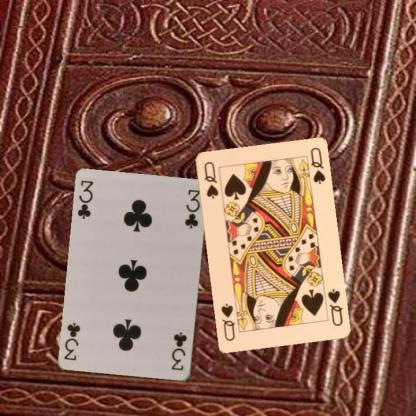3c: (75, 178, 95, 221), (170, 330, 188, 372)
Qs: (324, 286, 344, 327), (201, 158, 220, 200)
